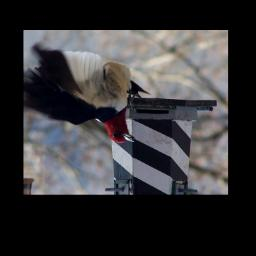Woodpecker: (24, 47, 147, 149)
